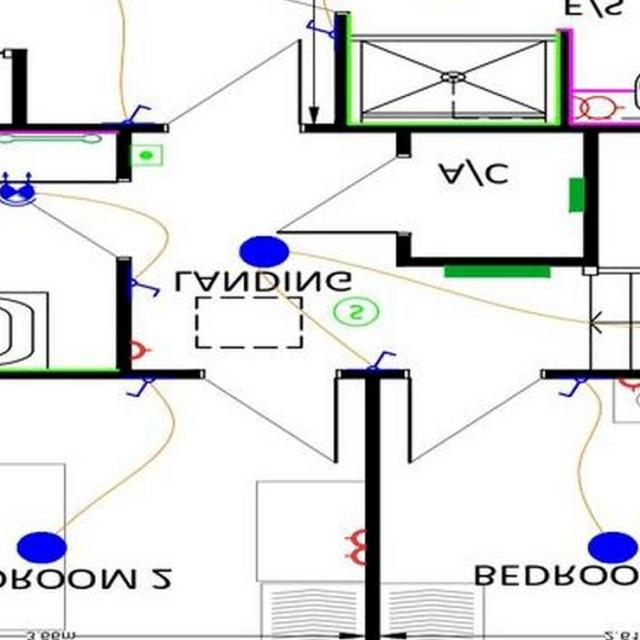Double Socket: (342, 531, 364, 567), (618, 381, 640, 394)
Full Height Tiling: (344, 12, 562, 125)
Light Switch: (130, 276, 158, 298), (121, 105, 152, 124), (305, 19, 333, 40), (368, 350, 397, 370), (125, 380, 155, 398), (557, 380, 586, 398)
Low Energy Downlighter: (0, 172, 36, 209)
Low Energy Pendant Light: (15, 531, 68, 566), (238, 236, 290, 269), (586, 532, 638, 564)
Mains Wired Smoke Detector: (332, 299, 379, 328)
Programmable Room Thermostat: (130, 144, 163, 167)
Radiator: (443, 268, 547, 279), (567, 179, 583, 211)
Shaver Socket: (571, 92, 624, 122)
Single Socket: (130, 342, 152, 361)
